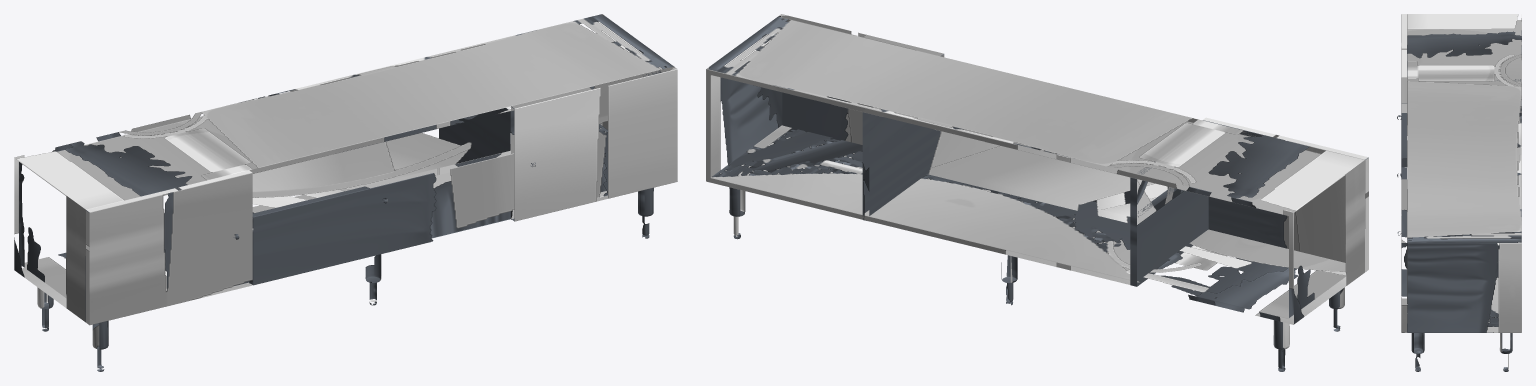
File: raw_model.obj
3 renders of one model, left to right at view 1: azimuth 30°, elevation 25°; view 2: azimuth 150°, elevation 25°; view 3: azimuth 270°, elevation 25°, orthographic. The views are drawn at different scales.
Parts seen in each view (by area): view 1: solid_001, solid_002; view 2: solid_001; view 3: solid_001, solid_002.
Boxes of the visible parts, bbox=[...] form: solid_001: bbox=[14, 14, 677, 349]; solid_002: bbox=[42, 162, 649, 368]; solid_001: bbox=[706, 14, 1368, 349]; solid_001: bbox=[1401, 14, 1521, 353]; solid_002: bbox=[1397, 115, 1508, 369].
Bounding box in the file's own units: 1.8 × 0.5 × 0.4143.
